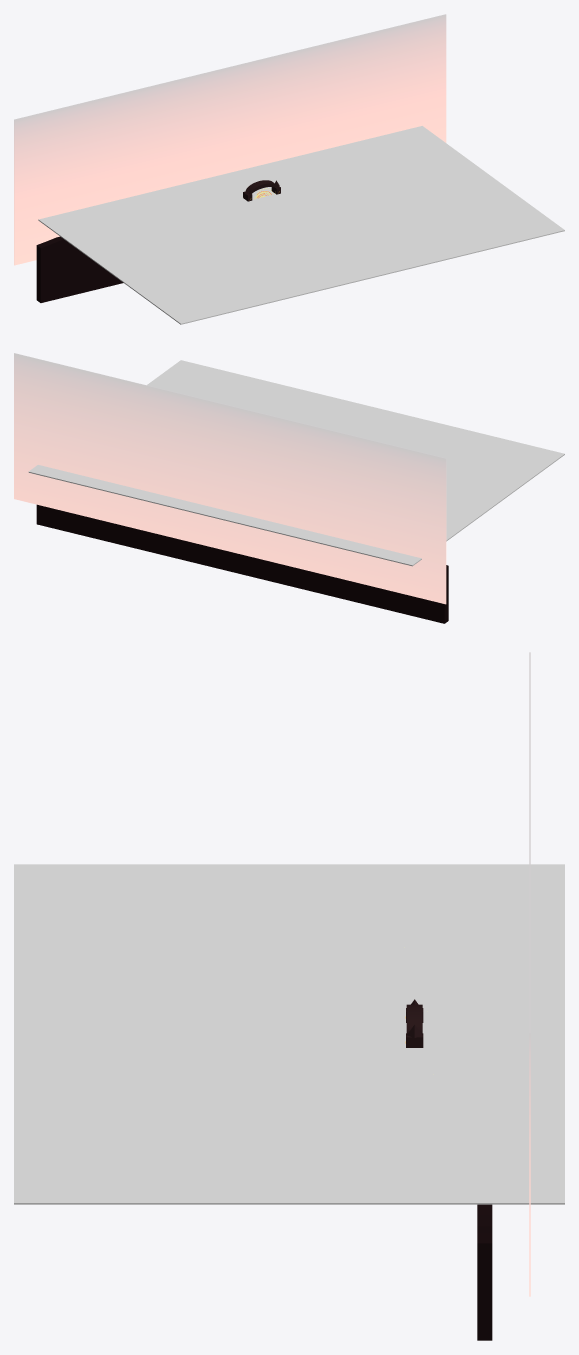
File: hellgate.glb
3 renders of one model, top to bottom at view 1: azimuth 30°, elevation 25°; view 2: azimuth 150°, elevation 25°; view 3: azimuth 270°, elevation 25°, orthographic. The views are drawn at different scales.
Parts seen in each view (by area): view 1: Ground contact / transparent shadow receiver.027, Sky gradient / editable material.027, World / terrain and architecture.022; view 2: Sky gradient / editable material.027, Ground contact / transparent shadow receiver.027, World / terrain and architecture.022; view 3: Ground contact / transparent shadow receiver.027, World / terrain and architecture.022, Sky gradient / editable material.027.
Boxes of the visible parts, x1,y1,x2,y2 form: Ground contact / transparent shadow receiver.027: [38, 126, 564, 324]; Sky gradient / editable material.027: [14, 14, 446, 265]; World / terrain and architecture.022: [36, 180, 280, 302]; Sky gradient / editable material.027: [14, 353, 446, 604]; Ground contact / transparent shadow receiver.027: [28, 360, 564, 566]; World / terrain and architecture.022: [36, 504, 448, 623]; Ground contact / transparent shadow receiver.027: [14, 864, 564, 1204]; World / terrain and architecture.022: [406, 999, 492, 1340]; Sky gradient / editable material.027: [529, 652, 530, 1296].
Size of the model in its own units: 180 by 70 by 110.
